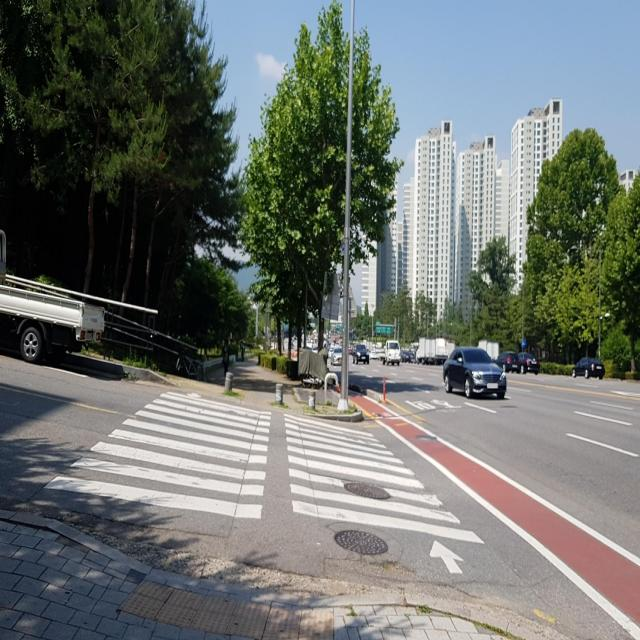횡단보도: (41, 390, 488, 580)
